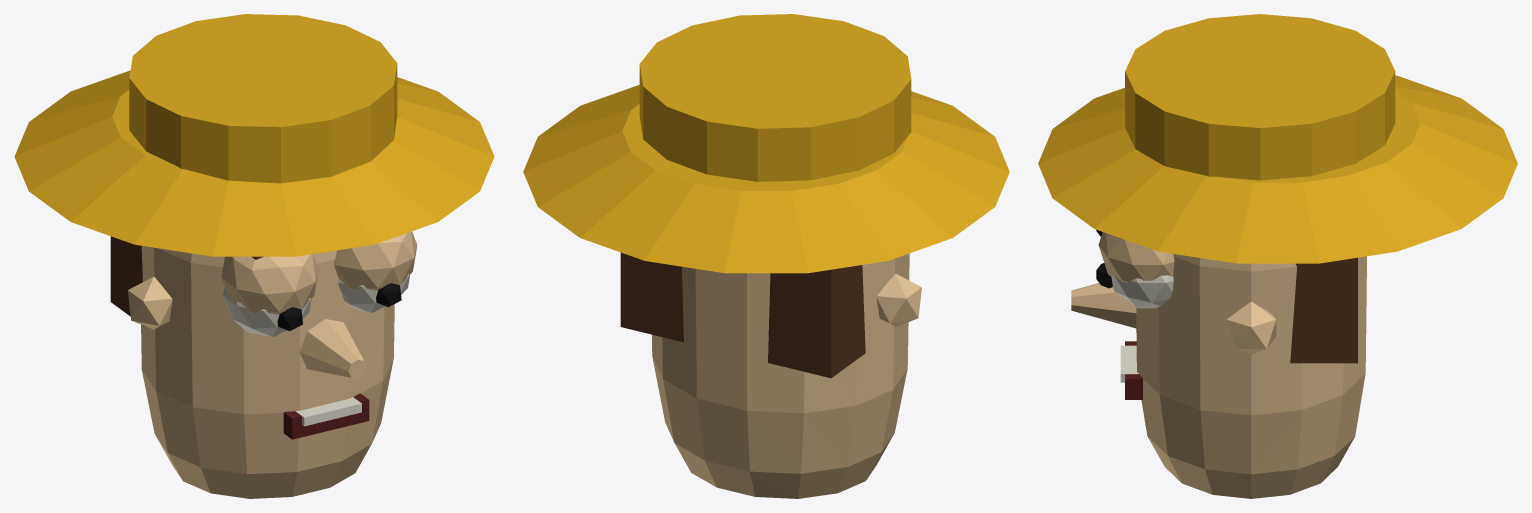
The model's file is PersonMarketHead.obj.
The picture shows the model from 3 angles, left to right: view 1: azimuth 30°, elevation 25°; view 2: azimuth 150°, elevation 25°; view 3: azimuth 270°, elevation 25°; orthographic projection.
Parts seen in each view (by area): view 1: PersonMarketHead; view 2: PersonMarketHead; view 3: PersonMarketHead.
Part boxes in pixels (x1=…): PersonMarketHead: x1=14, y1=14, x2=494, y2=498; PersonMarketHead: x1=523, y1=14, x2=1009, y2=498; PersonMarketHead: x1=1038, y1=14, x2=1517, y2=498.
Size of the model in its own units: 0.5318 by 0.48 by 0.54.
